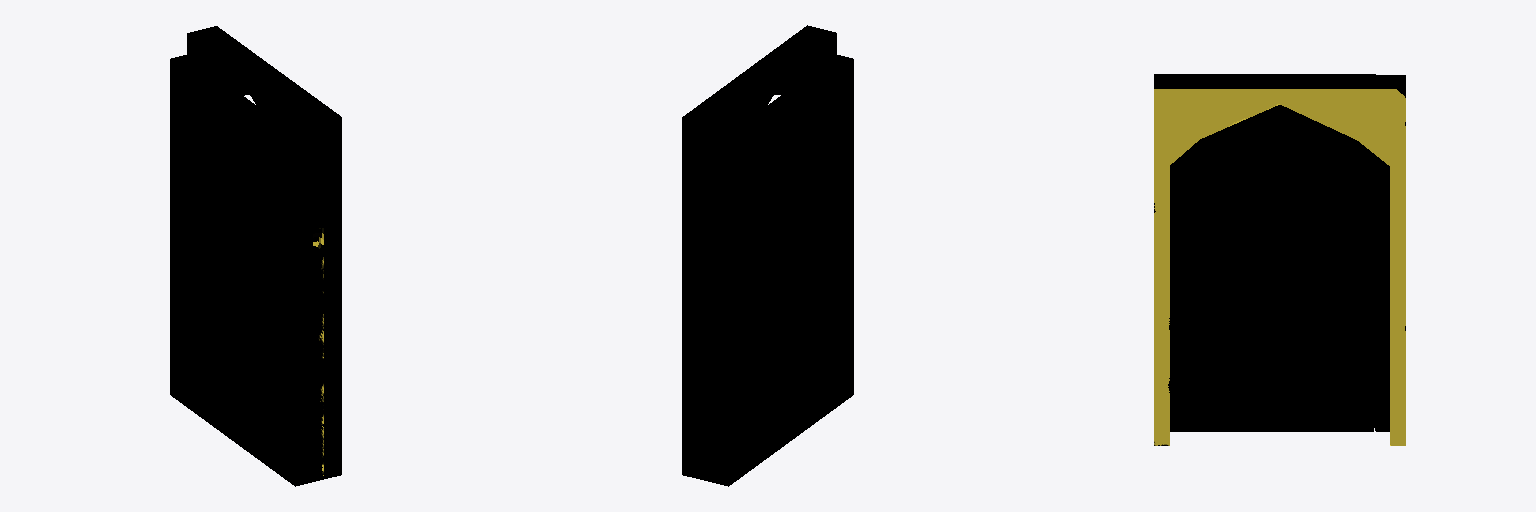
The picture shows the model from 3 angles: view 1: azimuth 30°, elevation 25°; view 2: azimuth 150°, elevation 25°; view 3: azimuth 270°, elevation 25°; orthographic projection.
Parts seen in each view (by area): view 1: Cube; view 2: Cube; view 3: Cube.
Boxes of the visible parts, x1,y1,x2,y2 form: Cube: [170, 26, 341, 486]; Cube: [682, 25, 853, 486]; Cube: [1154, 74, 1405, 445].
Bounding box in the file's own units: 0.2171 × 1.57 × 1.
Materials: 1 (1 with a texture image).